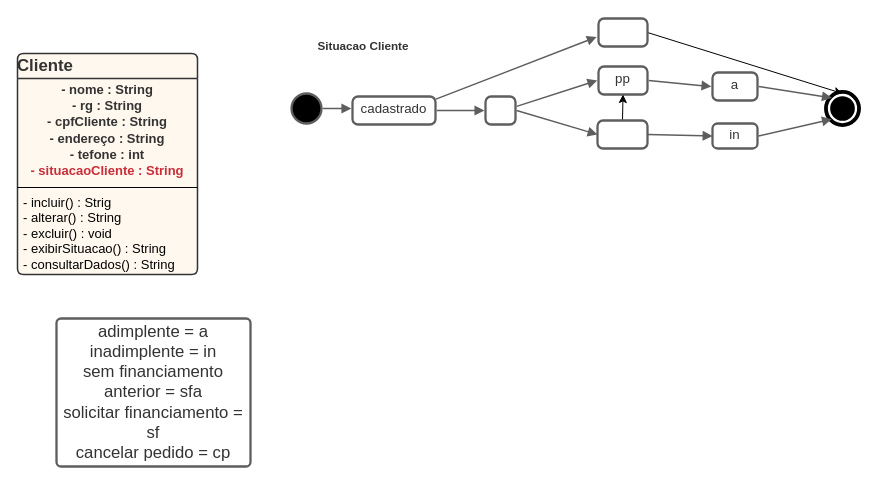
Image size: 876x485. Some labels were removed from this diagram. The centre of each missing label's shape, as x and y in pixels:
cfa: the point at 500,110
pa: the point at 622,134
sfa: the point at 622,32
